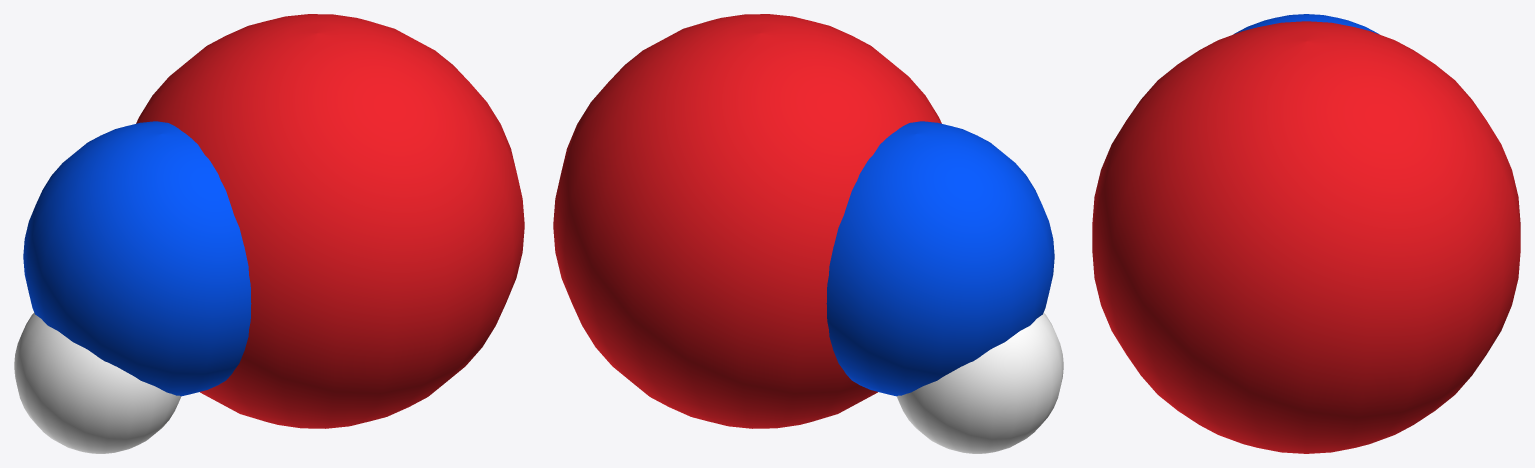
File: HClO.fbx
The picture shows the model from 3 angles, left to right: view 1: azimuth 30°, elevation 25°; view 2: azimuth 150°, elevation 25°; view 3: azimuth 270°, elevation 25°; orthographic projection. The views are drawn at different scales.
Visible parts, largest first — view 1: Сферы_Node (×3); view 2: Сферы_Node (×3); view 3: Сферы_Node (×2).
Boxes of the visible parts, x1=… form: Сферы_Node (×3): x1=14, y1=14, x2=524, y2=453; Сферы_Node (×3): x1=553, y1=14, x2=1063, y2=453; Сферы_Node (×2): x1=1092, y1=14, x2=1520, y2=453.
Bounding box in the file's own units: 3.15 × 2.4 × 2.38.
Materials: 3 (3 with a texture image).
